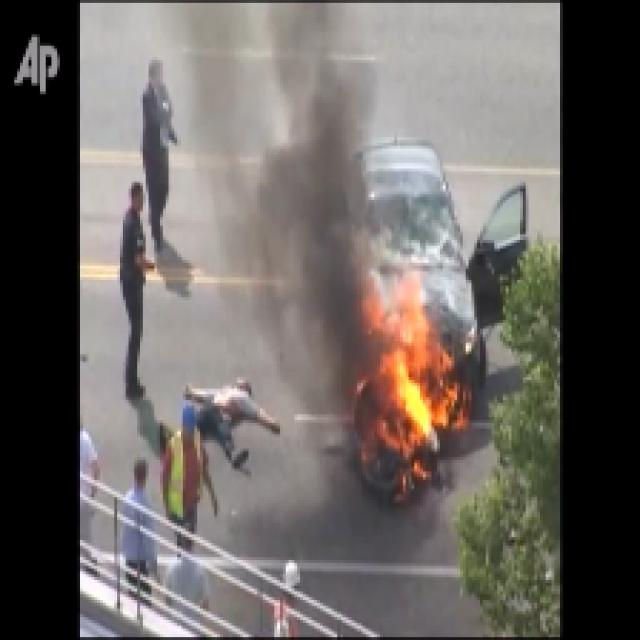fire: (370, 298, 465, 497)
smoke: (189, 6, 358, 381)
